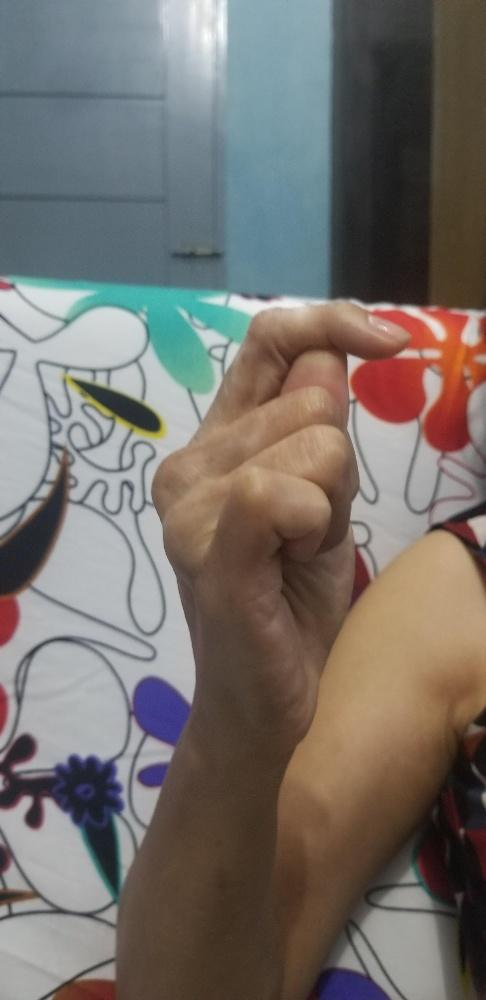t: (146, 296, 412, 750)
